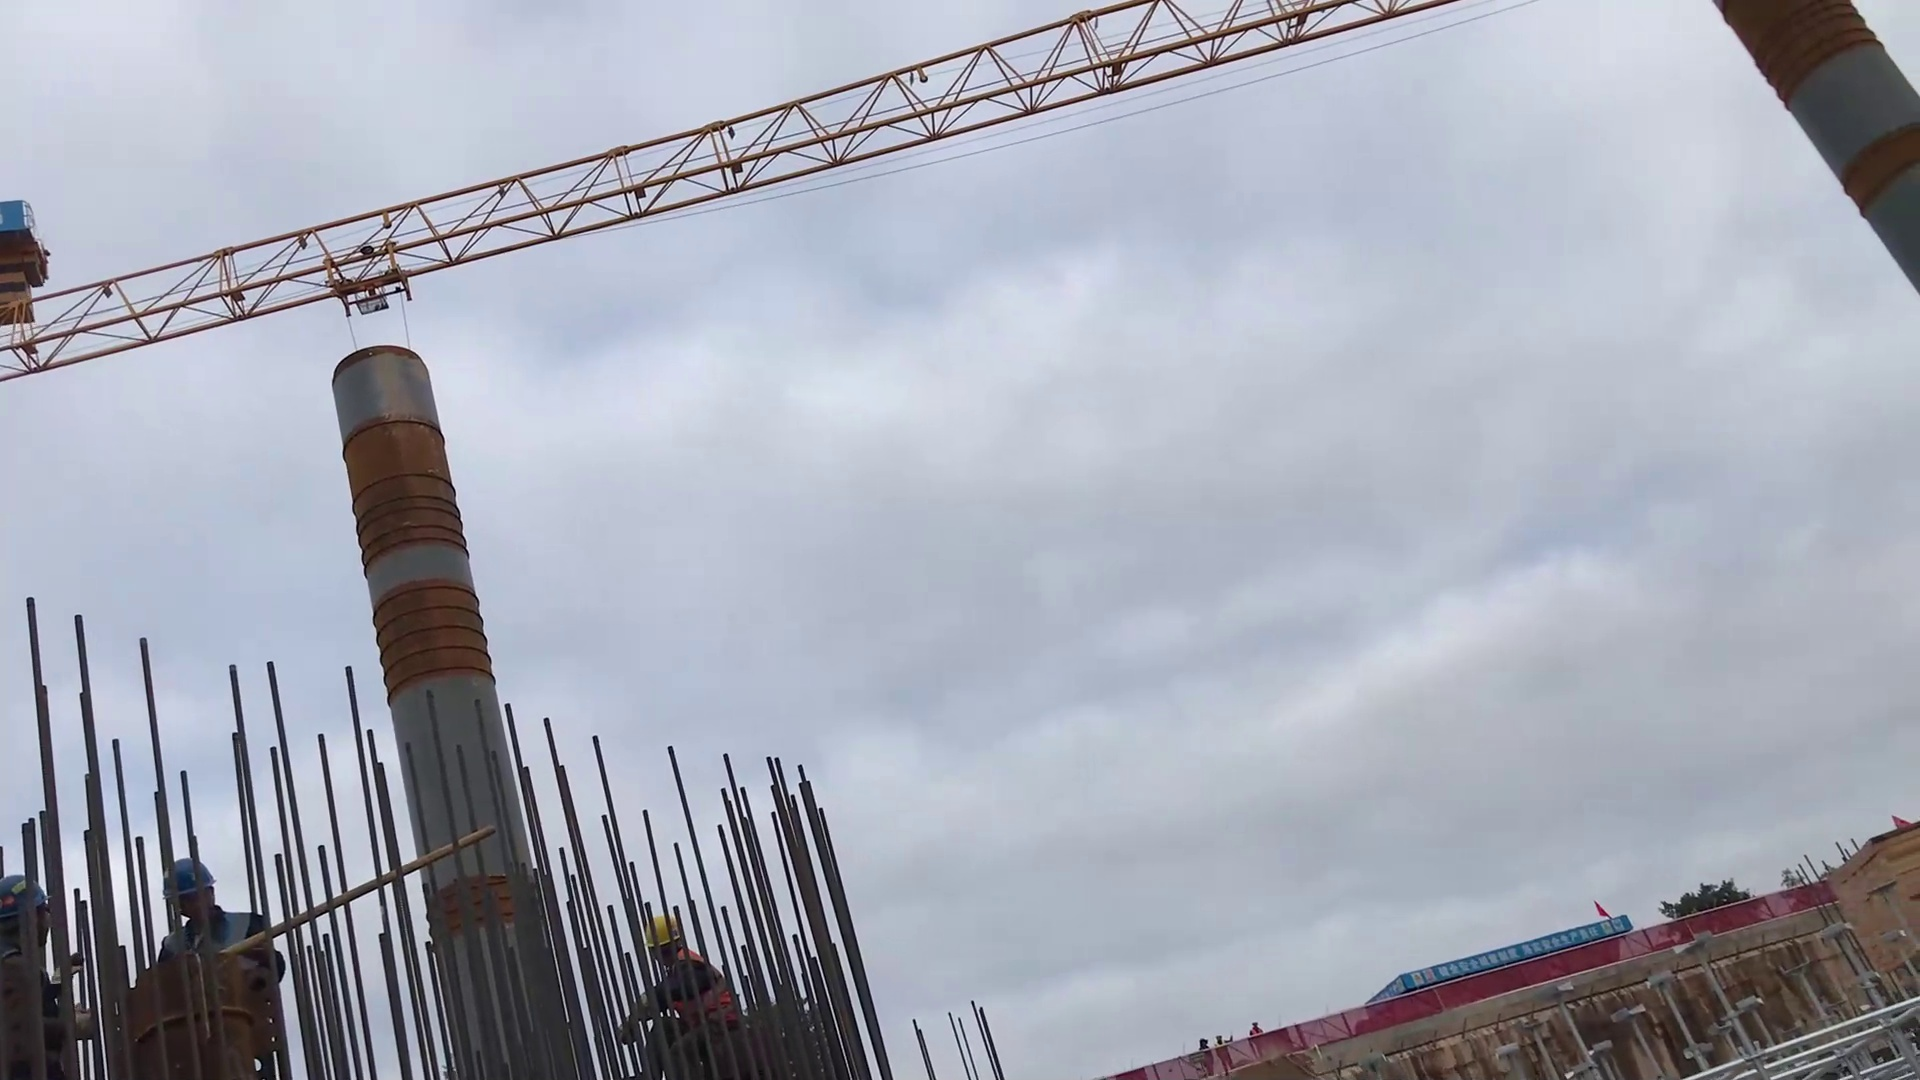helmet: (160, 855, 219, 907), (1, 872, 50, 924), (645, 917, 685, 953)
person: (136, 845, 300, 971), (614, 915, 770, 1044), (1, 870, 96, 1068)
